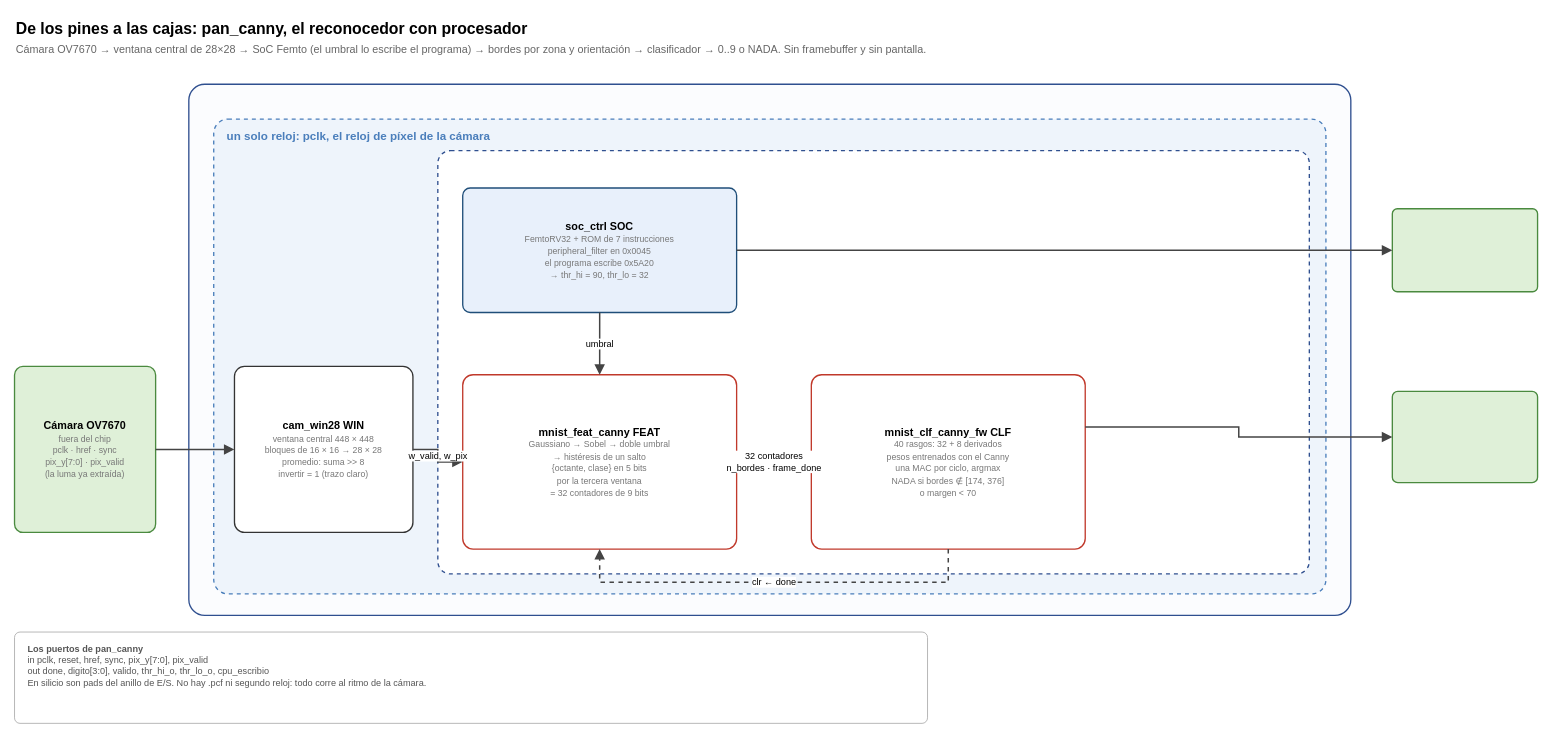
The diagram is 1553 pixels wide and 738 high, and some of its shapes have lost their labels. The shapes that lost their labels are listed below. From the top down, each one's box as (x1, y1, x2, y2) in pixels, then its label:
(1391, 208, 1538, 292): Observabilidad thr_hi_o · thr_lo_o cpu_escribio
(188, 83, 1351, 616): module pan_canny — pan_canny.v
(437, 150, 1310, 574): soc_mnist_canny_fw_top CLF
(1391, 390, 1538, 483): Veredicto done · digito[3:0] valido (0 = NADA)
